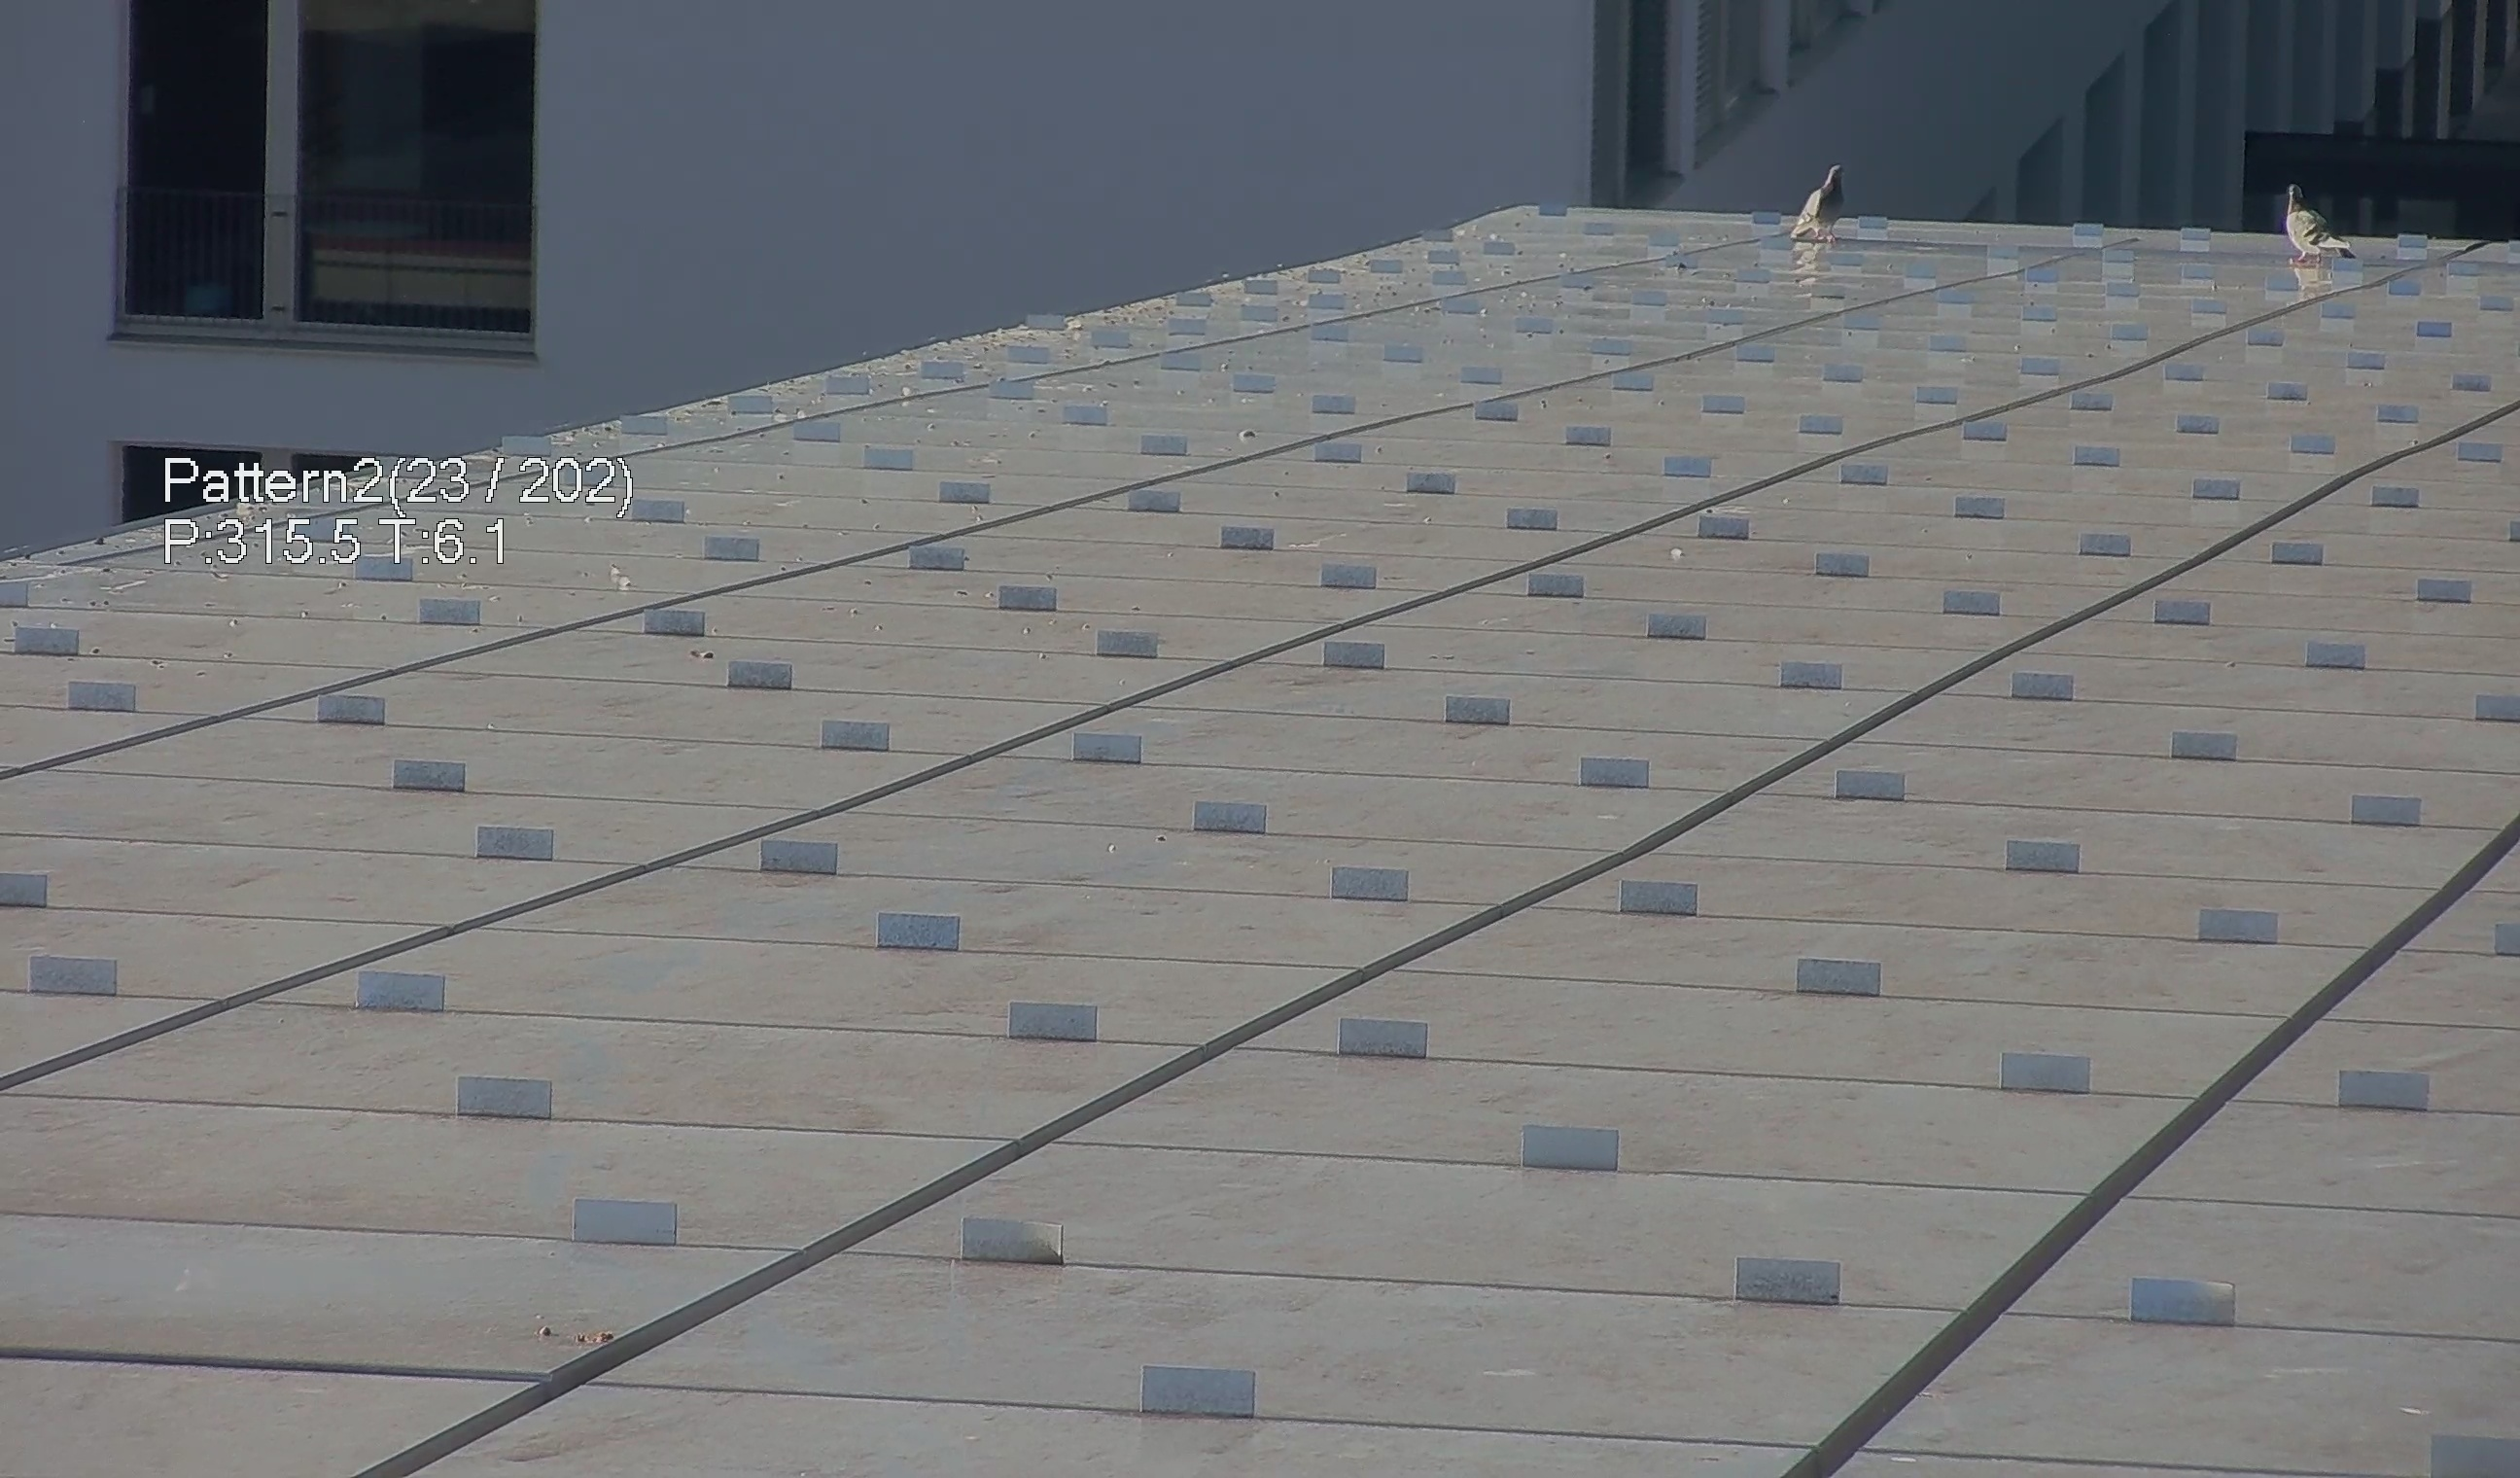Pigeon: (2274, 167, 2360, 301), (1785, 151, 1855, 252)
